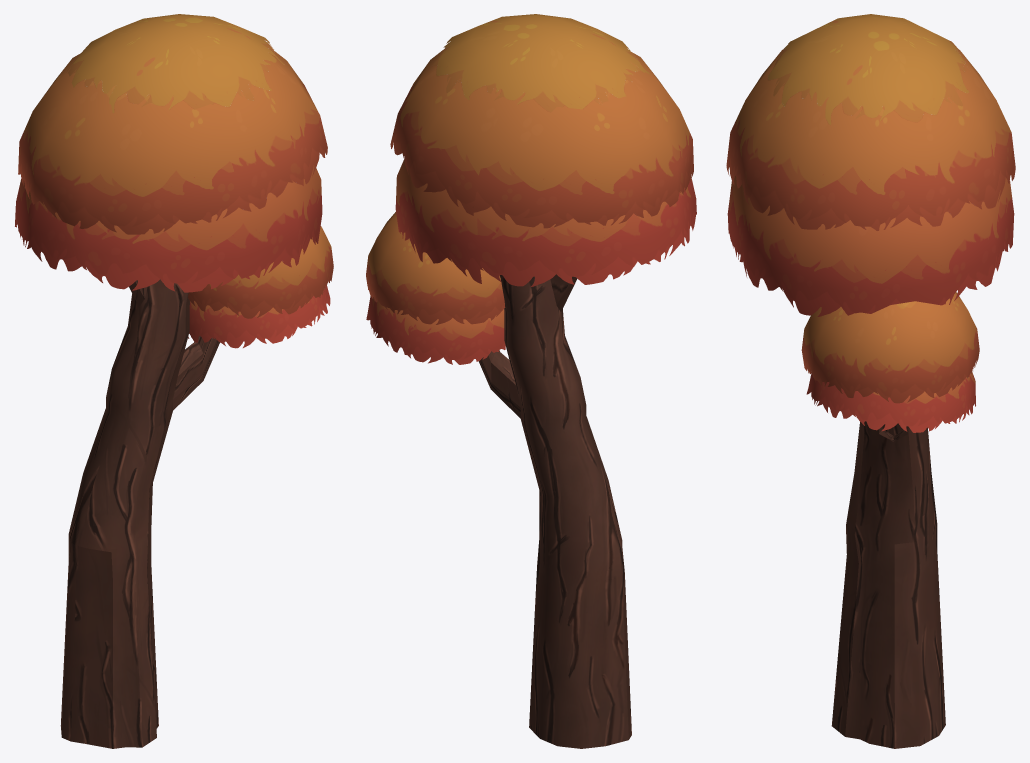
Rendered from Small Tree 2.FBX.
3 views of the same model, side by side, from view 1: azimuth 30°, elevation 25°; view 2: azimuth 150°, elevation 25°; view 3: azimuth 270°, elevation 25° (orthographic). The views are drawn at different scales.
Visible parts, largest first — view 1: Small Tree; view 2: Small Tree; view 3: Small Tree.
Part boxes in pixels (<box>): Small Tree: <box>15,14,333,748</box>; Small Tree: <box>366,14,696,748</box>; Small Tree: <box>726,14,1015,748</box>.
Bounding box in the file's own units: 16.31 × 35.62 × 12.95.
